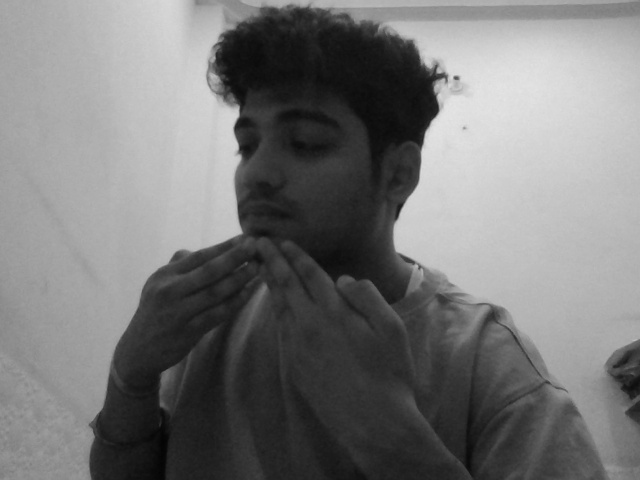Thanks: (91, 214, 417, 426)
